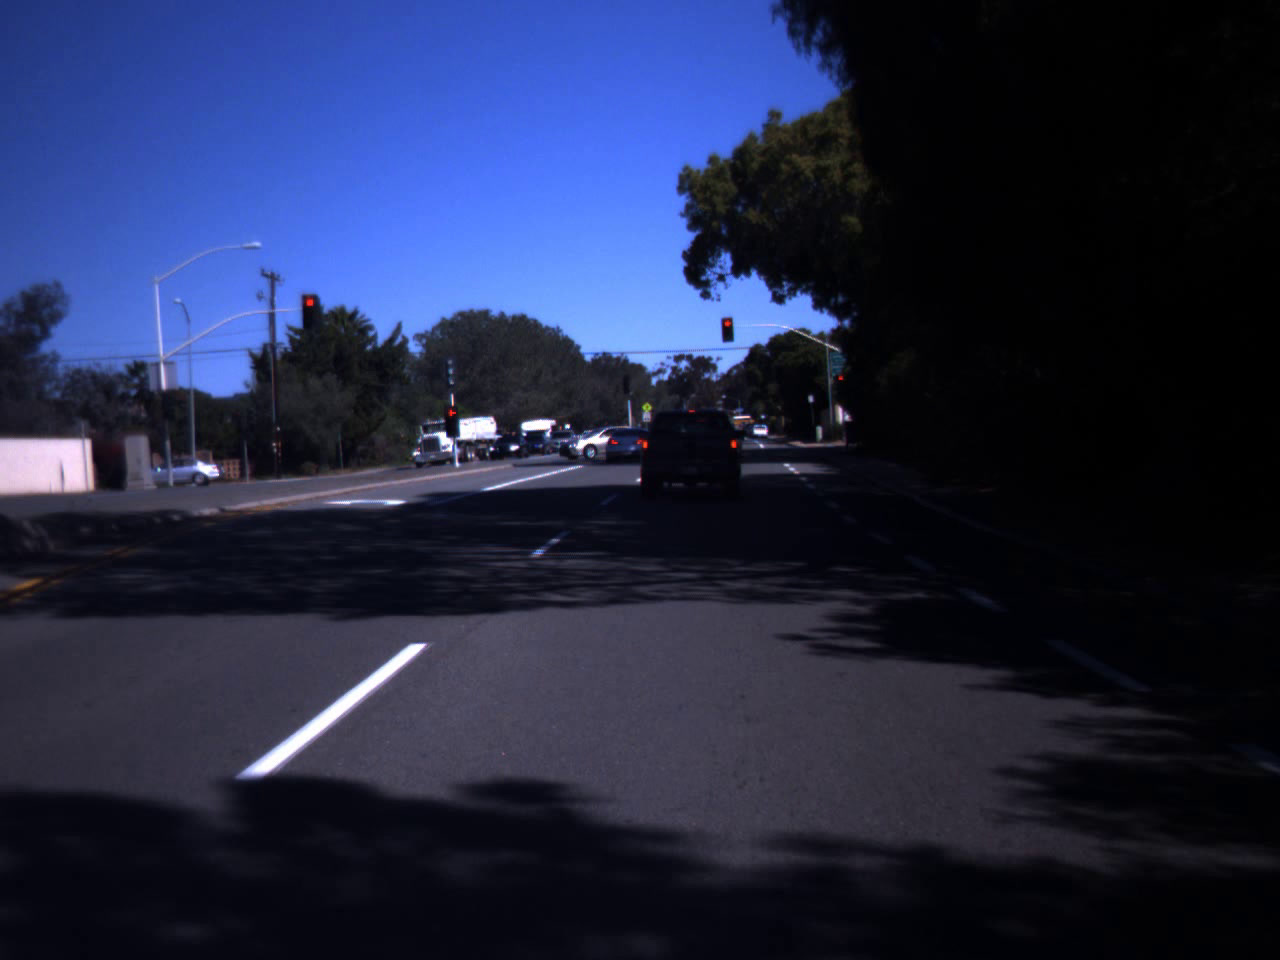stop: (444, 407, 462, 434), (301, 297, 319, 319), (720, 320, 735, 338)
